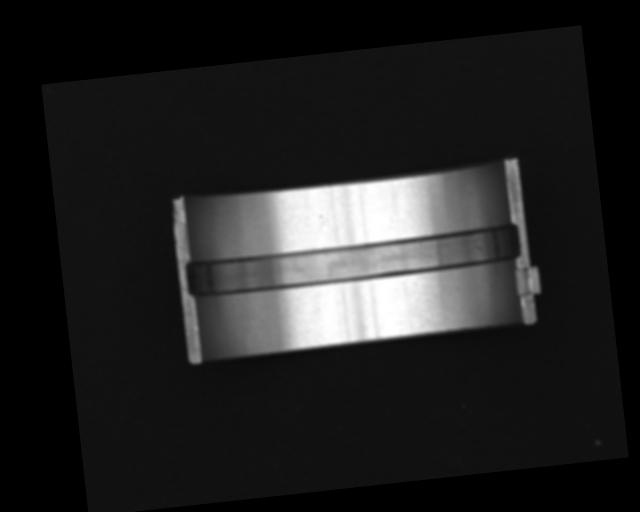gap: (182, 223, 525, 299)
